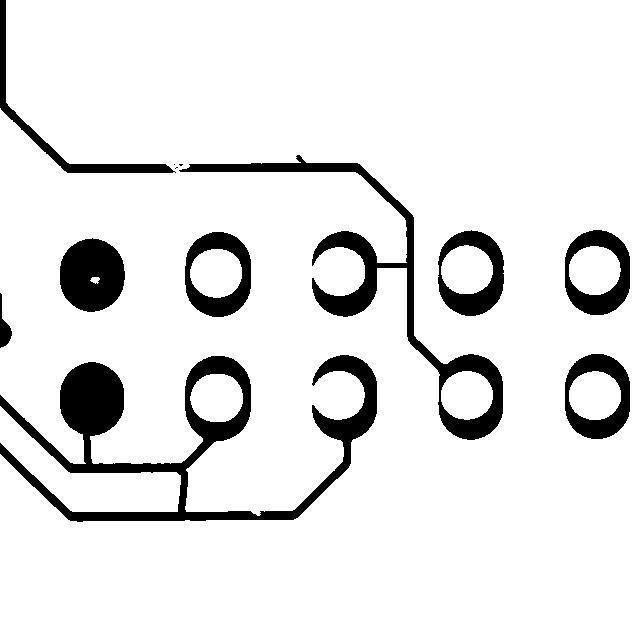mousebite: (241, 498, 270, 525)
open: (156, 149, 199, 184)
pin-hole: (80, 267, 109, 293)
short: (167, 457, 197, 524), (73, 420, 103, 480), (366, 253, 418, 277)
spur: (286, 145, 315, 173)
